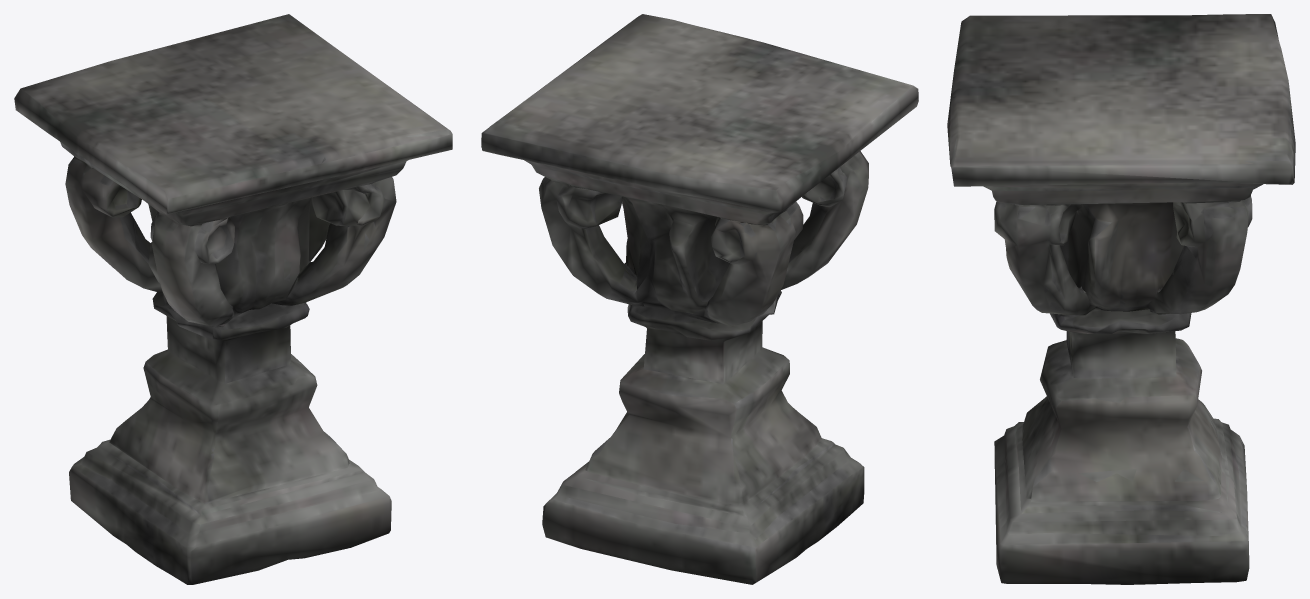
The model's file is old-granite-balcony-v001.glb.
The picture shows the model from 3 angles, left to right: view 1: azimuth 30°, elevation 25°; view 2: azimuth 150°, elevation 25°; view 3: azimuth 270°, elevation 25°; orthographic projection. The views are drawn at different scales.
Visible parts, largest first — view 1: old-granite-balcony; view 2: old-granite-balcony; view 3: old-granite-balcony.
Boxes of the visible parts, x1,y1,x2,y2 form: old-granite-balcony: [14, 14, 452, 584]; old-granite-balcony: [481, 14, 918, 584]; old-granite-balcony: [947, 14, 1295, 584].
Size of the model in its own units: 0.7824 by 1.07 by 0.7581.
1 material, 1 textured.
